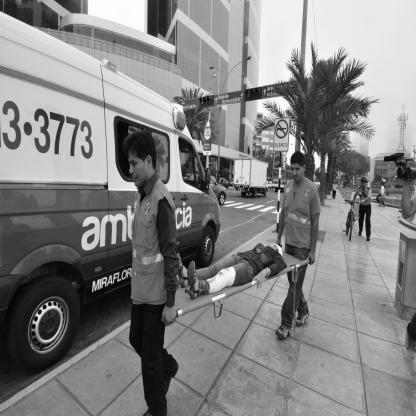ambulance: (1, 5, 221, 342)
